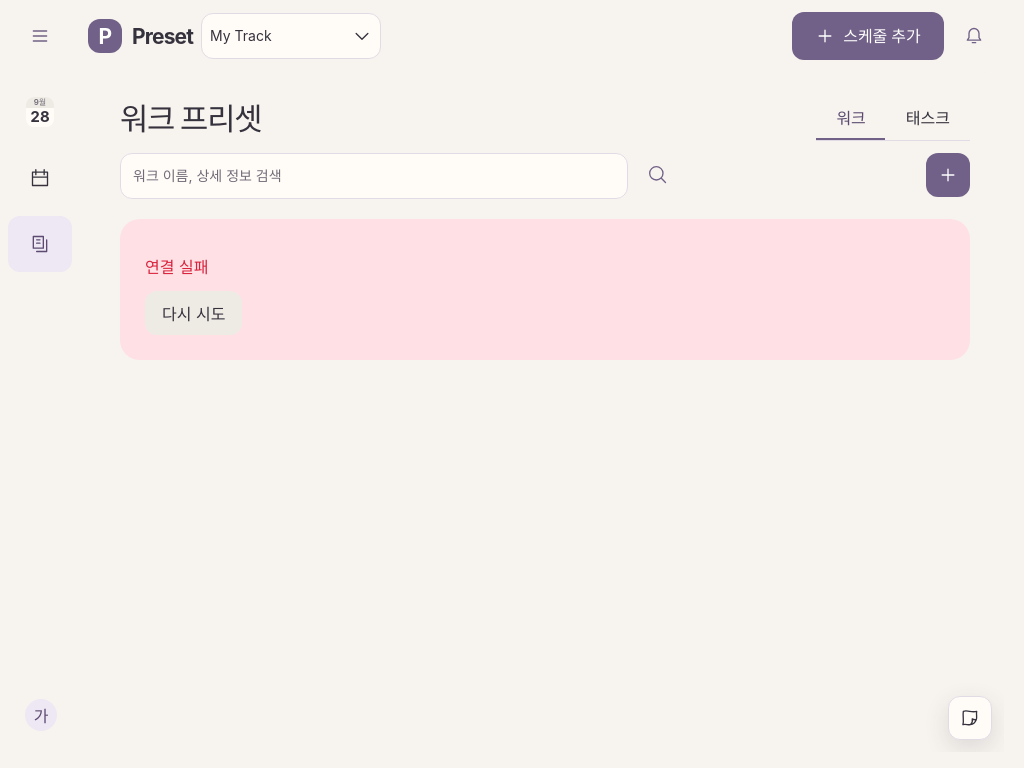
it: work workspace › shows empty state and recovers a failed list through retry
expect the text "연결 실패" is shown: met, box [145,257,208,277]
Click the button "다시 시도". click: (194, 313)
box: [145,291,242,335]
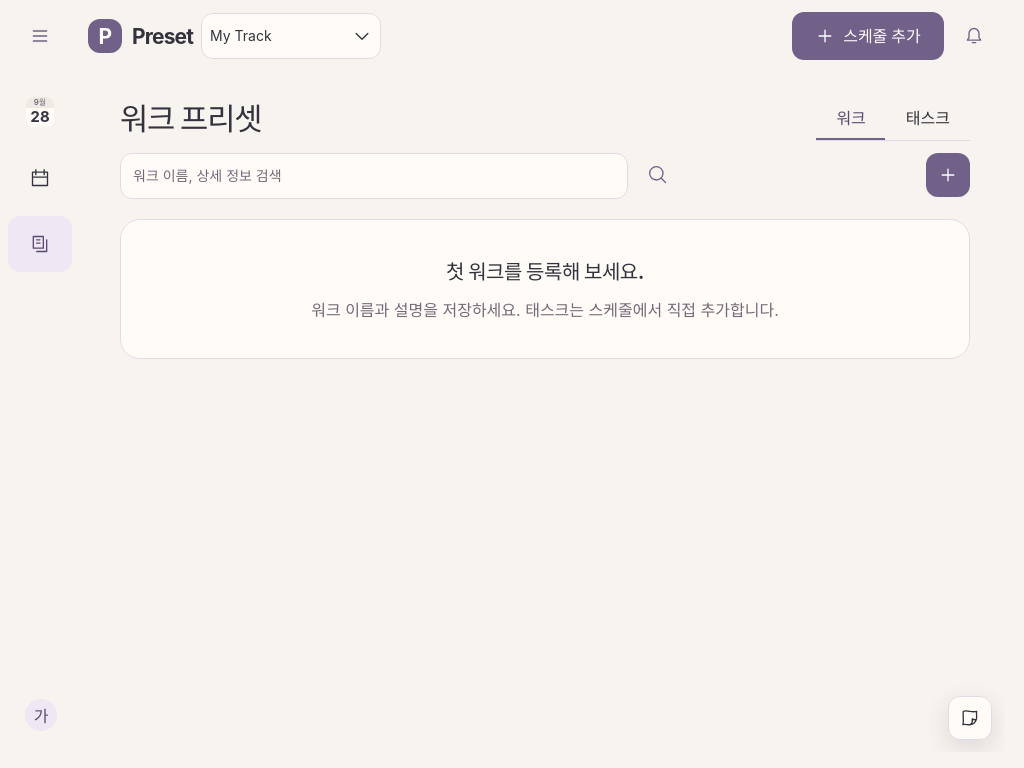
expect the heading "첫 워크를 등록해 보세요." is shown: met, box [446,260,644,284]
